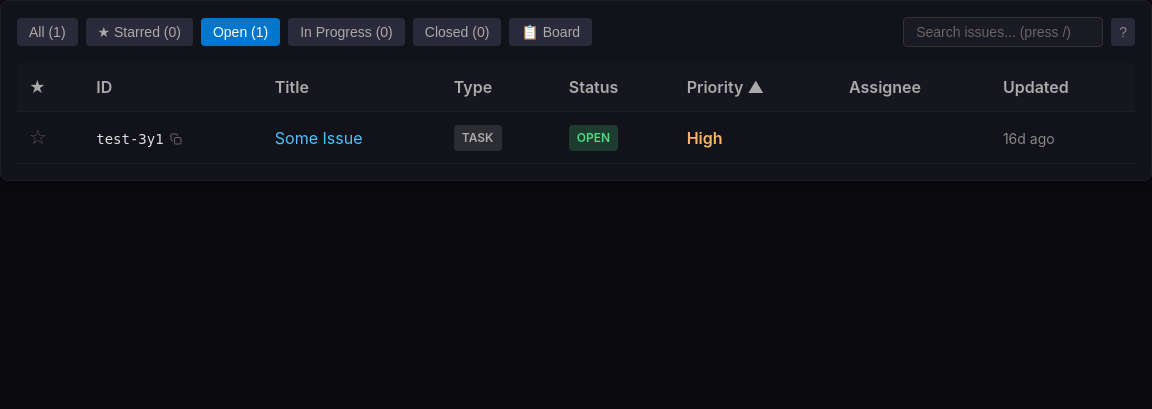
Test: IssueList › starred filtering › shows empty state when no starred issues
What coordinates should you click on to do the following:
click the button "★ Starred (0)"
I would click on:
 (139, 32)
Its box is top-left (86, 18), bottom-right (193, 46).
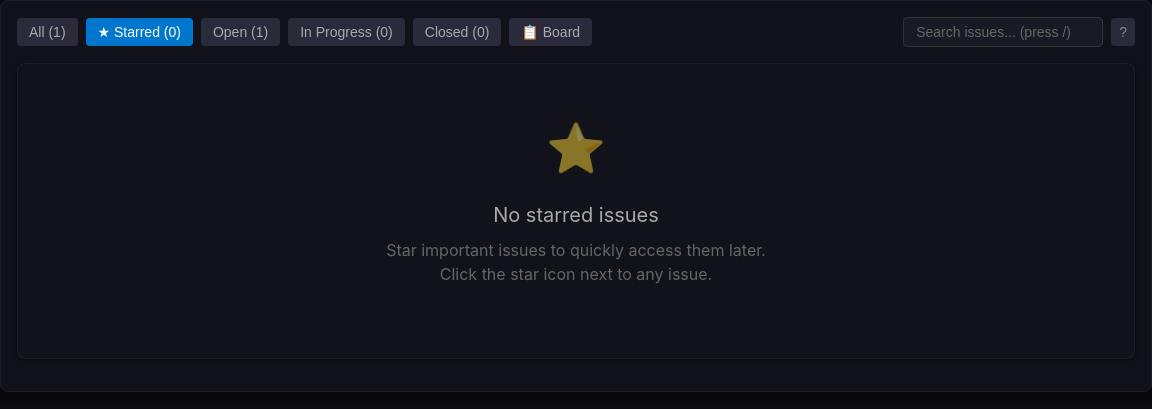
Expected: the text "No starred issues" is shown, top-left (493, 203), bottom-right (659, 227)
